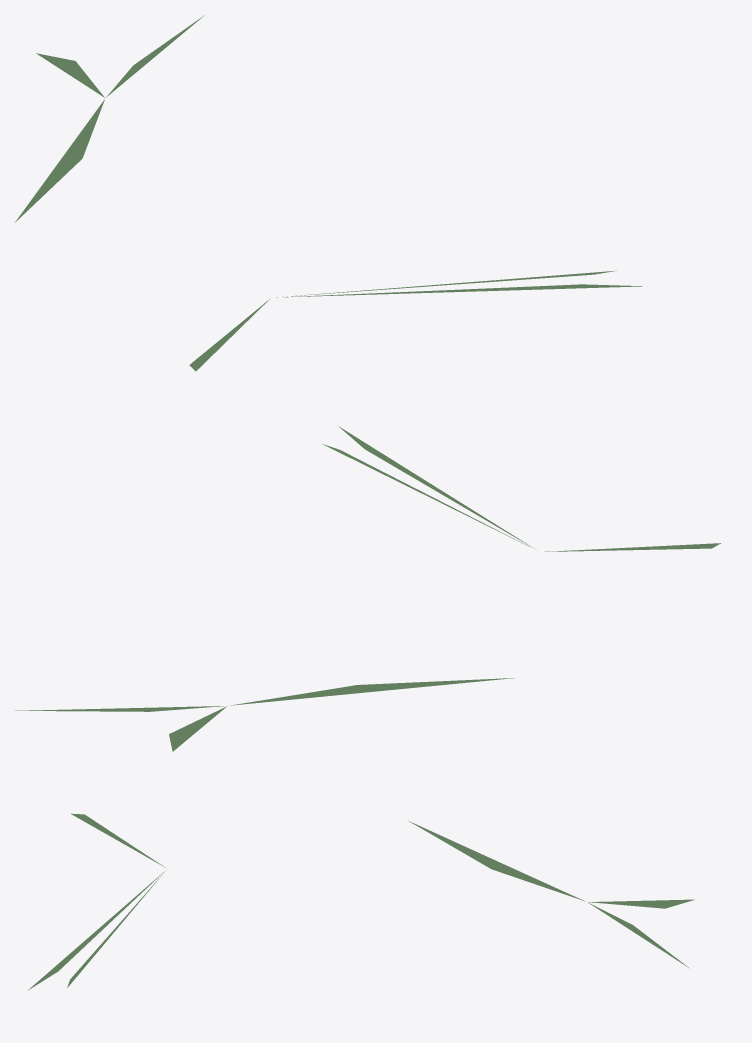
File: c_1643_17832_forest.glb
The picture shows the model from 3 angles, top to bottom: view 1: azimuth 30°, elevation 25°; view 2: azimuth 150°, elevation 25°; view 3: azimuth 270°, elevation 25°; orthographic projection. The views are drawn at different scales.
Visible parts, largest first — view 1: geometry_0; view 2: geometry_0; view 3: geometry_0.
Part boxes in pixels (x1,y1,x2,y2): geometry_0: (15, 15, 642, 371); geometry_0: (15, 426, 720, 751); geometry_0: (28, 813, 694, 990).
Bounding box in the file's own units: 308 × 0 × 396.
